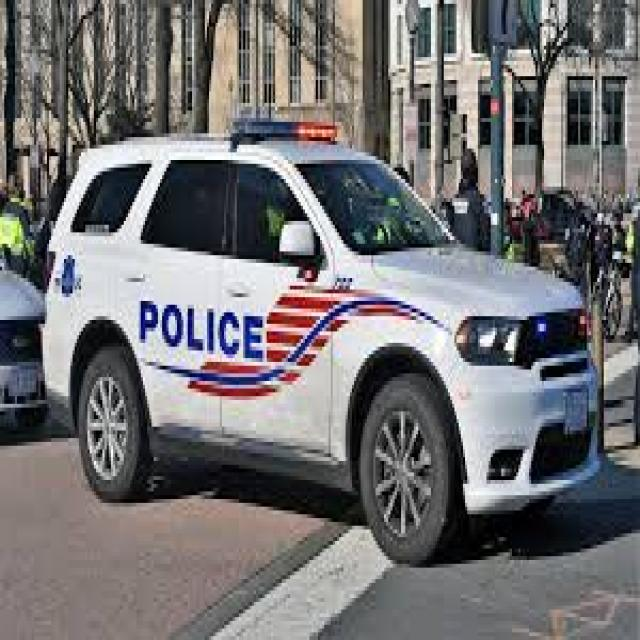cop: (48, 114, 604, 572)
